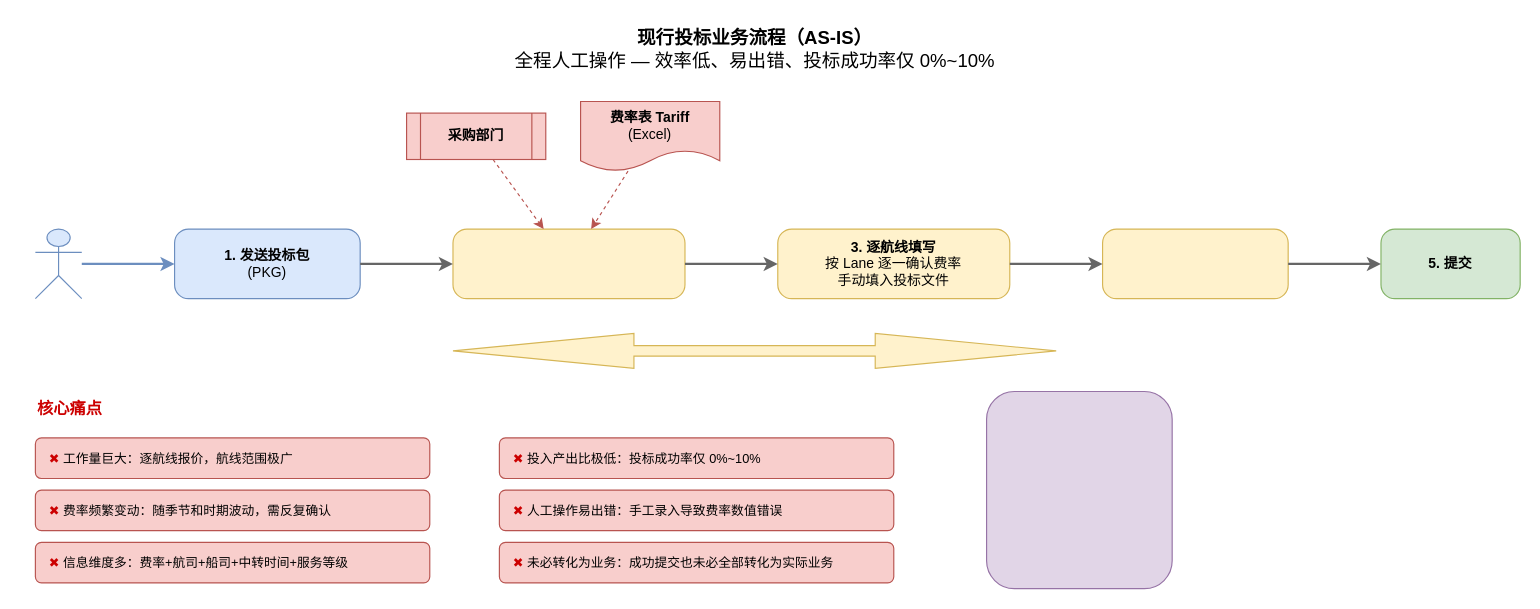
This 1540x609 diagram has some shape labels left out. Each missing label, with the centre of its shape:
"2. 人工查询费率 从采购部门 & 费率表(Tariff) 确认汇率" belongs at point 568,263.
"4. 人工检查 核对数据准确性" belongs at point 1194,263.
"客户 (ABC Co 等)" belongs at point 58,263.
"耗时：数小时 ~ 数天" belongs at point 754,350.
"航线示例（Lane） 成田 → 上海 成田 → 香港 大阪 → 深圳 名古屋 → 广州 ... (数百条)" belongs at point 1078,489.
